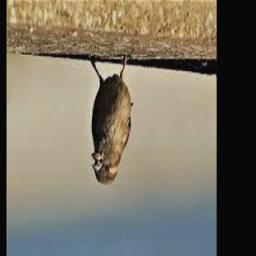Sparrow: (89, 56, 133, 186)
